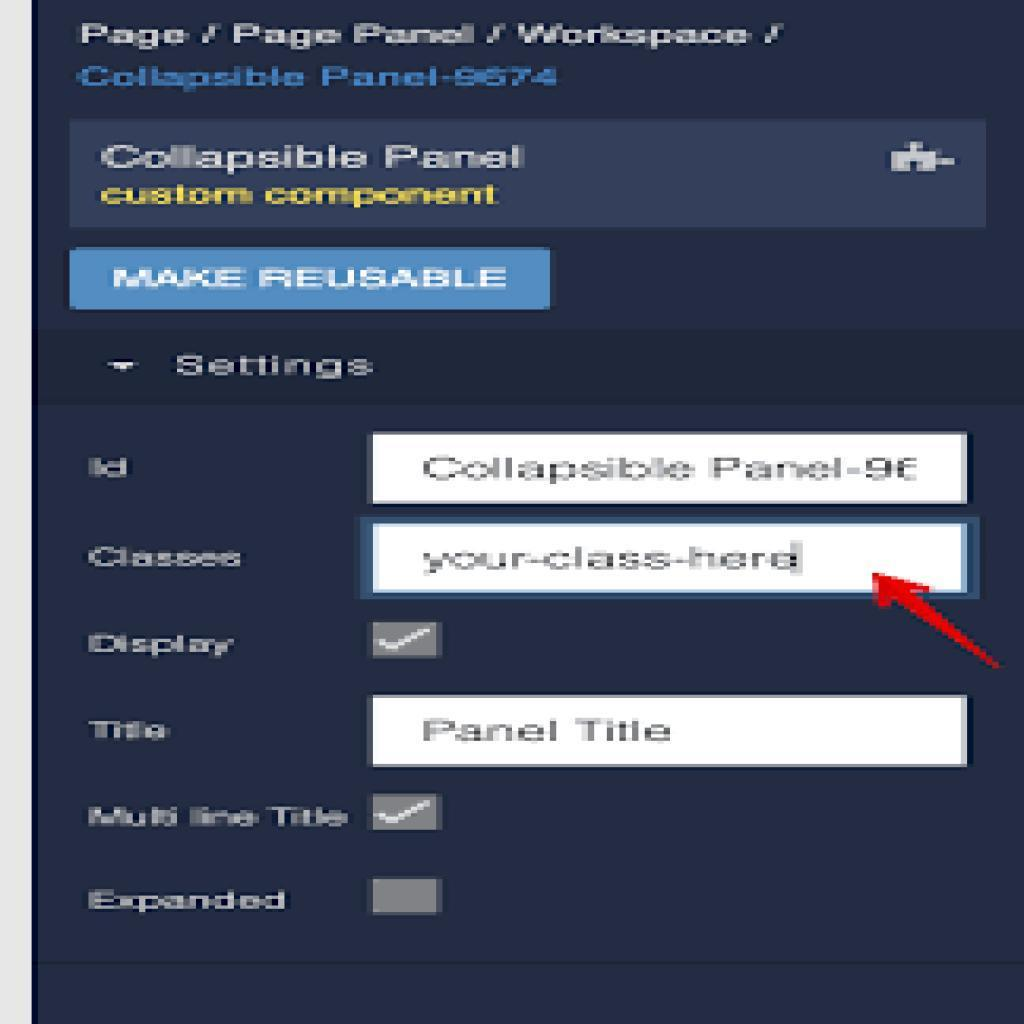button: (71, 250, 551, 311)
checkbox: (371, 790, 442, 837), (369, 619, 443, 662), (373, 876, 437, 920)
input: (370, 437, 965, 507), (372, 697, 958, 767), (376, 523, 965, 592)
label: (84, 795, 349, 843), (90, 883, 286, 923), (82, 539, 249, 579), (87, 624, 237, 664), (90, 711, 179, 752), (91, 445, 134, 493)
